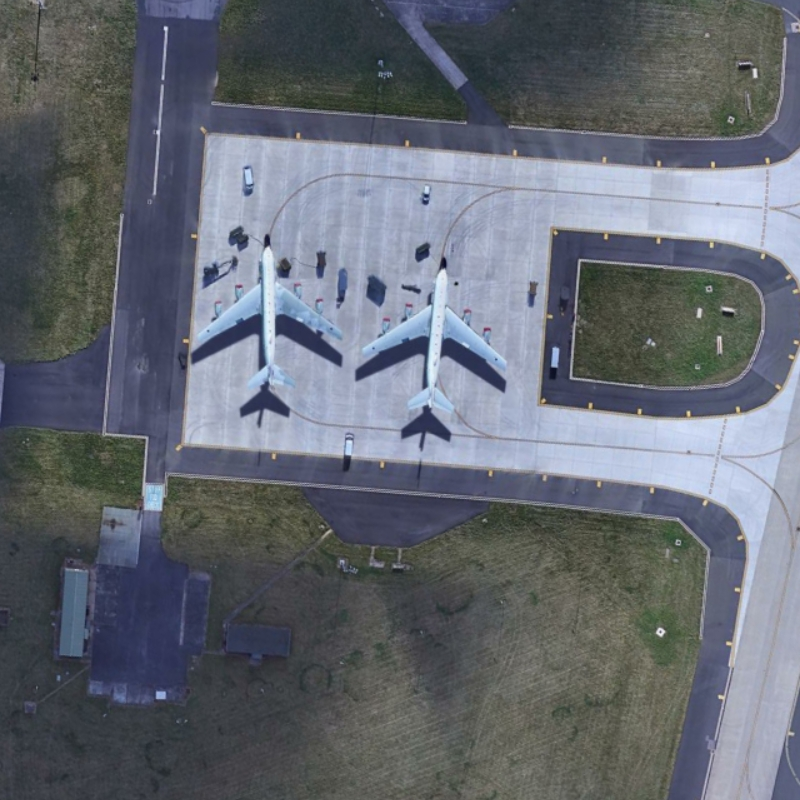A11: (362, 249, 515, 431), (186, 224, 346, 398)
